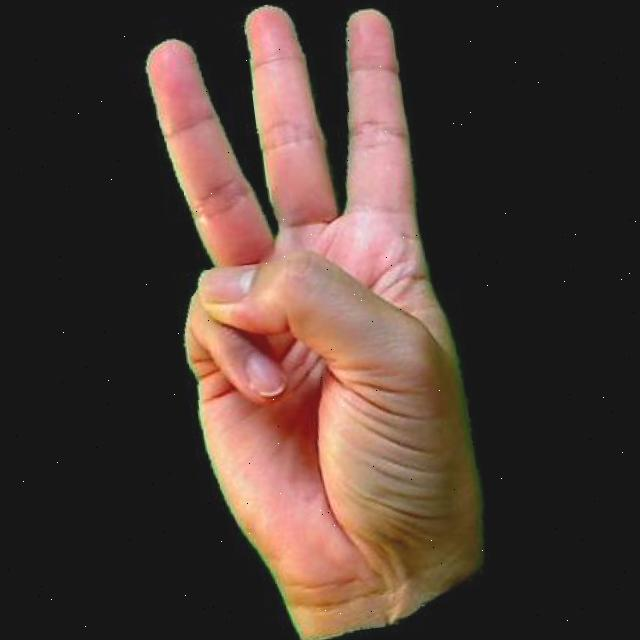w: (113, 0, 497, 640)
